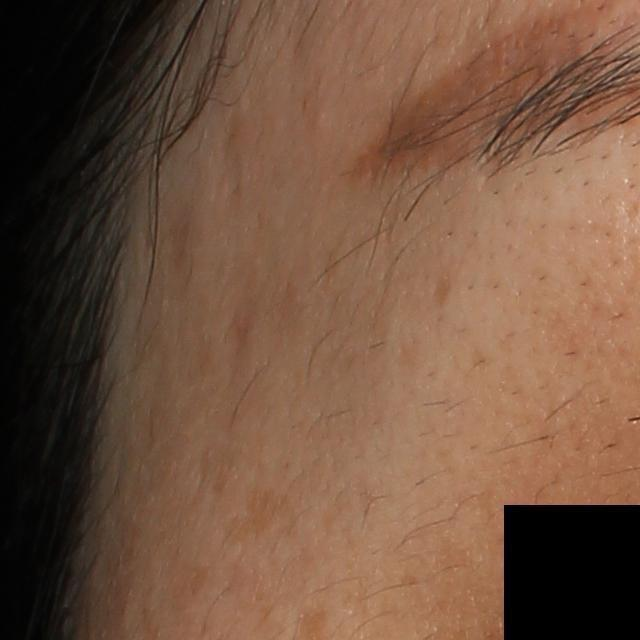melasma: (220, 474, 296, 548), (434, 274, 457, 317)
